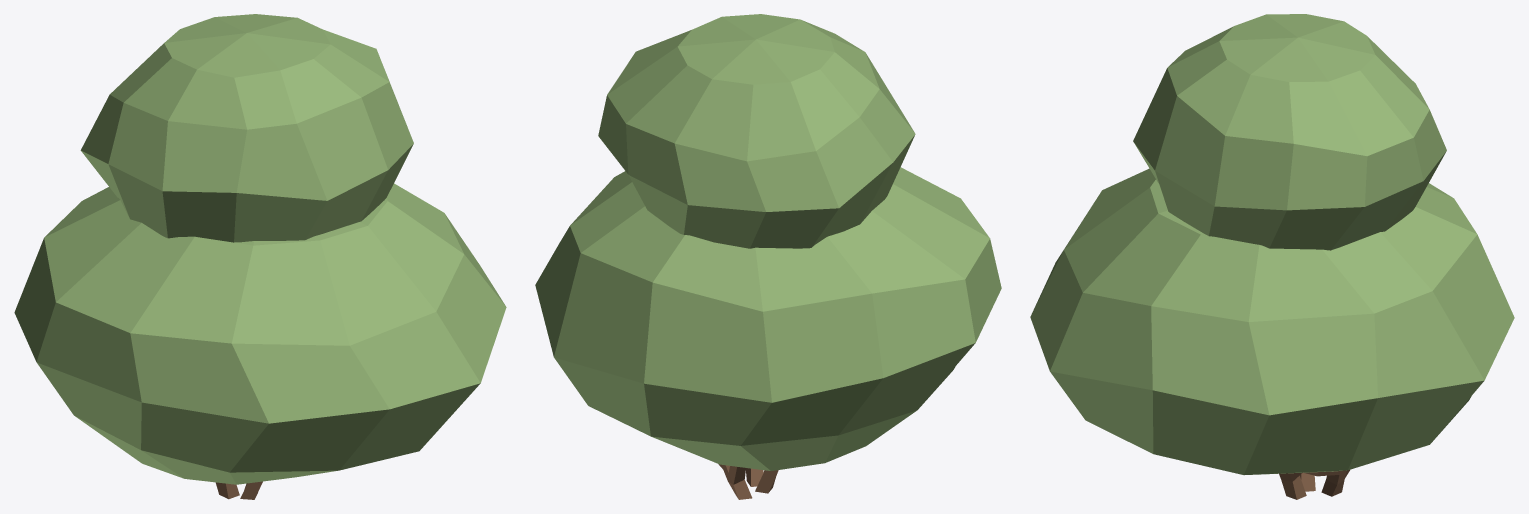
Rendered from Bushes_bush_02.001.fbx.
3 renders of one model, left to right at view 1: azimuth 30°, elevation 25°; view 2: azimuth 150°, elevation 25°; view 3: azimuth 270°, elevation 25°, orthographic. The views are drawn at different scales.
Visible parts, largest first — view 1: Bushes_bush_02.001; view 2: Bushes_bush_02.001; view 3: Bushes_bush_02.001.
Boxes of the visible parts, left/top/right/bottom form: Bushes_bush_02.001: left=14, top=14, right=506, bottom=499; Bushes_bush_02.001: left=535, top=14, right=1001, bottom=499; Bushes_bush_02.001: left=1030, top=14, right=1514, bottom=499.
Bounding box in the file's own units: 77.6 × 78.36 × 75.09.
